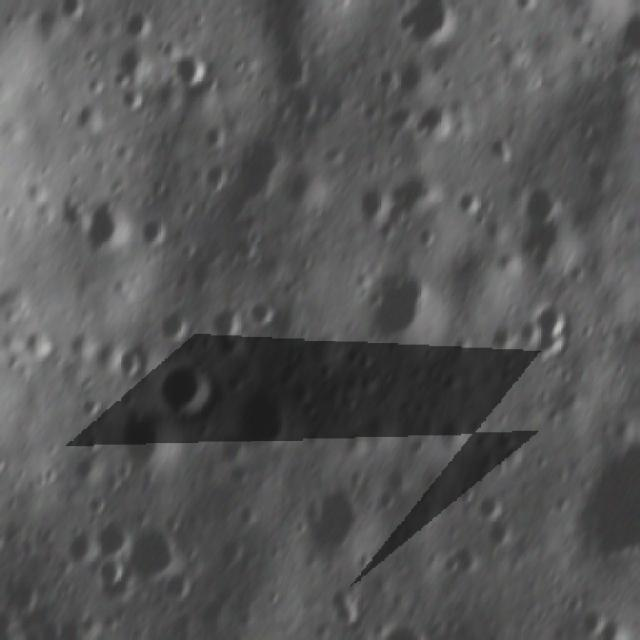crater: (369, 257, 437, 348), (589, 454, 640, 552), (306, 483, 362, 552), (241, 385, 296, 452), (234, 143, 295, 202), (78, 197, 138, 251), (160, 362, 214, 420), (127, 417, 187, 468), (133, 520, 185, 578), (399, 0, 468, 40), (540, 298, 578, 357), (518, 180, 570, 220), (207, 311, 247, 354), (368, 620, 448, 640), (357, 182, 400, 218), (5, 574, 49, 609), (61, 526, 99, 566), (419, 102, 458, 140), (272, 48, 318, 80), (76, 325, 109, 366), (98, 557, 132, 595), (176, 51, 210, 88), (144, 214, 178, 251), (117, 349, 148, 386), (336, 579, 362, 623), (455, 191, 494, 220), (27, 324, 55, 364), (75, 97, 107, 132), (617, 12, 640, 60), (551, 0, 611, 18), (98, 518, 125, 557), (119, 44, 146, 82), (287, 90, 319, 122), (218, 534, 247, 569), (113, 85, 150, 112), (248, 298, 278, 331), (234, 234, 268, 263), (203, 121, 231, 152), (165, 310, 190, 344), (439, 552, 473, 576), (488, 134, 518, 161), (582, 606, 607, 636), (490, 323, 516, 351), (484, 522, 516, 544), (84, 491, 111, 517), (477, 492, 506, 516), (205, 166, 229, 191), (80, 396, 106, 418), (0, 443, 15, 481), (521, 315, 542, 340), (514, 0, 548, 14), (60, 0, 86, 17), (458, 484, 482, 502), (236, 463, 250, 486), (332, 632, 354, 640)
